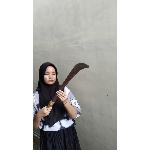Golok: (45, 59, 91, 110)
